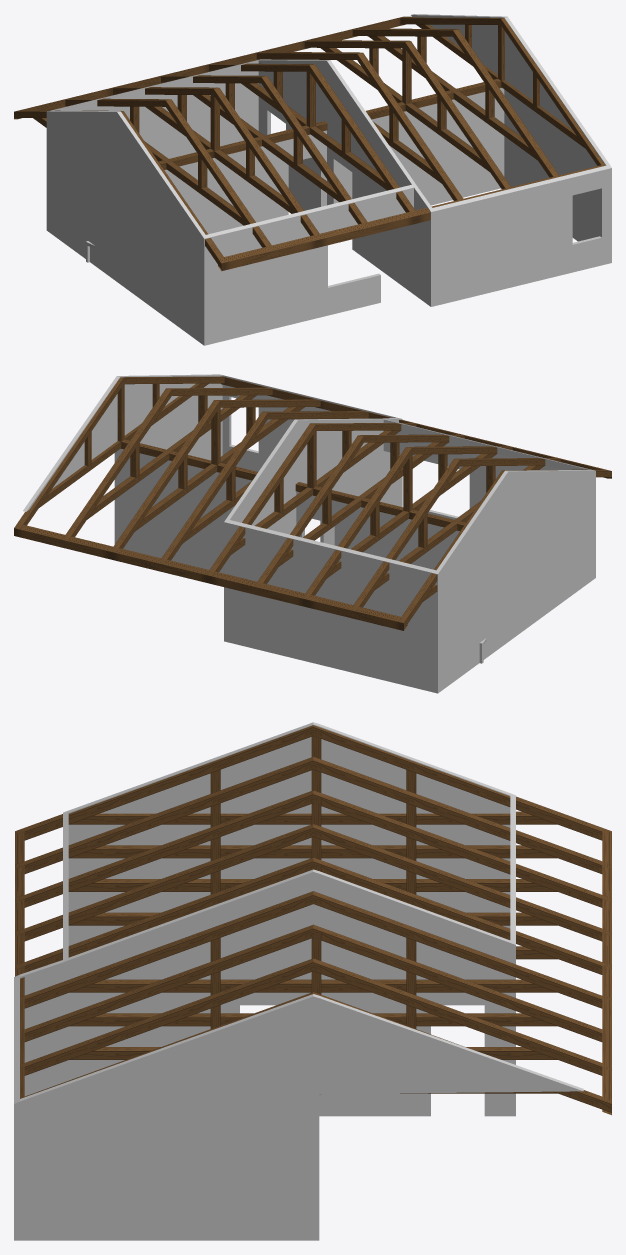
File: Tembok03.fbx
3 renders of one model, top to bottom at view 1: azimuth 30°, elevation 25°; view 2: azimuth 150°, elevation 25°; view 3: azimuth 270°, elevation 25°, orthographic. The views are drawn at different scales.
Visible parts, largest first — view 1: Tembok, Rangka_Genteng; view 2: Tembok, Rangka_Genteng; view 3: Tembok, Rangka_Genteng.
Part boxes in pixels (bbox=[...]): Tembok: bbox=[46, 14, 611, 345]; Rangka_Genteng: bbox=[14, 16, 605, 271]; Tembok: bbox=[23, 374, 595, 693]; Rangka_Genteng: bbox=[14, 376, 611, 630]; Tembok: bbox=[14, 722, 583, 1240]; Rangka_Genteng: bbox=[15, 725, 611, 1115].
Bounding box in the file's own units: 1334 × 551 × 1222.
